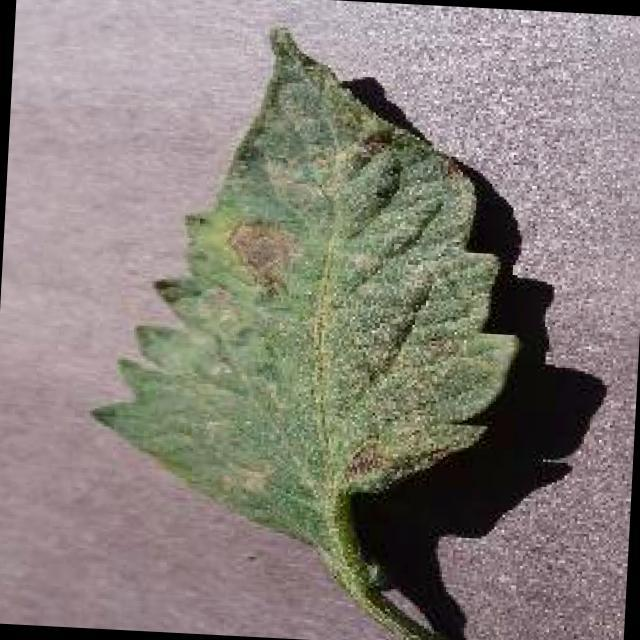Tomato Early blight leaf: (98, 16, 534, 558)
